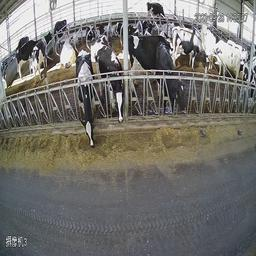cow: (98, 44, 128, 135), (154, 42, 190, 108), (76, 48, 94, 145), (171, 26, 207, 67), (207, 42, 241, 76), (33, 29, 53, 84), (16, 35, 34, 83), (60, 31, 80, 67), (145, 0, 169, 21), (54, 15, 67, 48), (84, 21, 96, 43), (112, 15, 122, 39)
